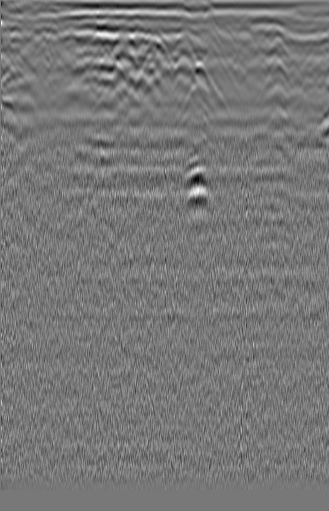가스: (172, 153, 219, 206)
상수: (294, 40, 326, 72)
오수: (0, 21, 30, 54)
우수: (135, 35, 173, 73)
